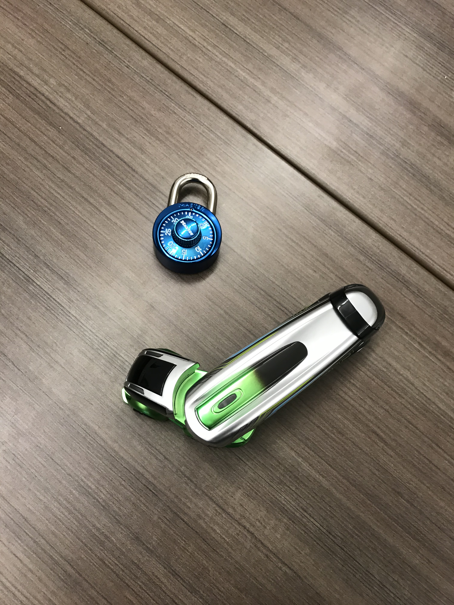Freewheel: (122, 283, 386, 446)
